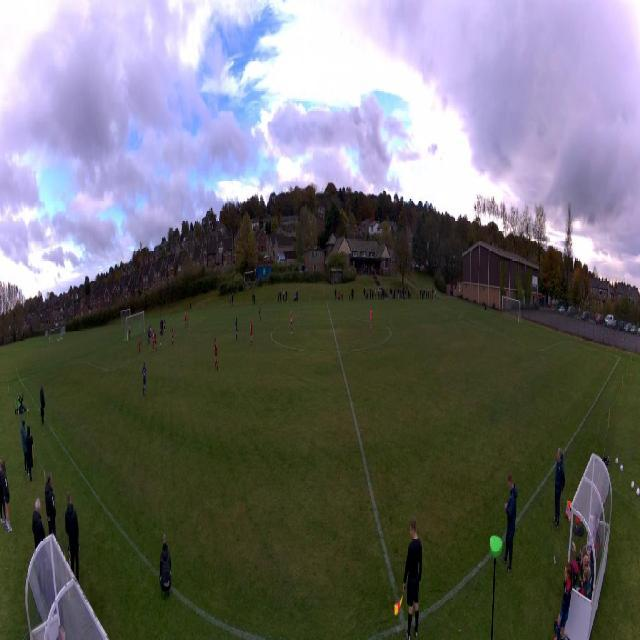ball: (160, 343, 161, 347)
player: (141, 361, 147, 397), (214, 338, 218, 370), (171, 324, 175, 346), (153, 331, 157, 351), (250, 319, 253, 345), (290, 310, 293, 335), (235, 317, 238, 341), (369, 308, 372, 330), (138, 339, 142, 355), (152, 330, 155, 351), (259, 302, 262, 321), (184, 311, 187, 328), (186, 312, 189, 328), (148, 331, 151, 346), (161, 318, 163, 336), (129, 322, 131, 339), (160, 318, 162, 335), (164, 319, 166, 335), (149, 323, 151, 335), (147, 323, 149, 334)
